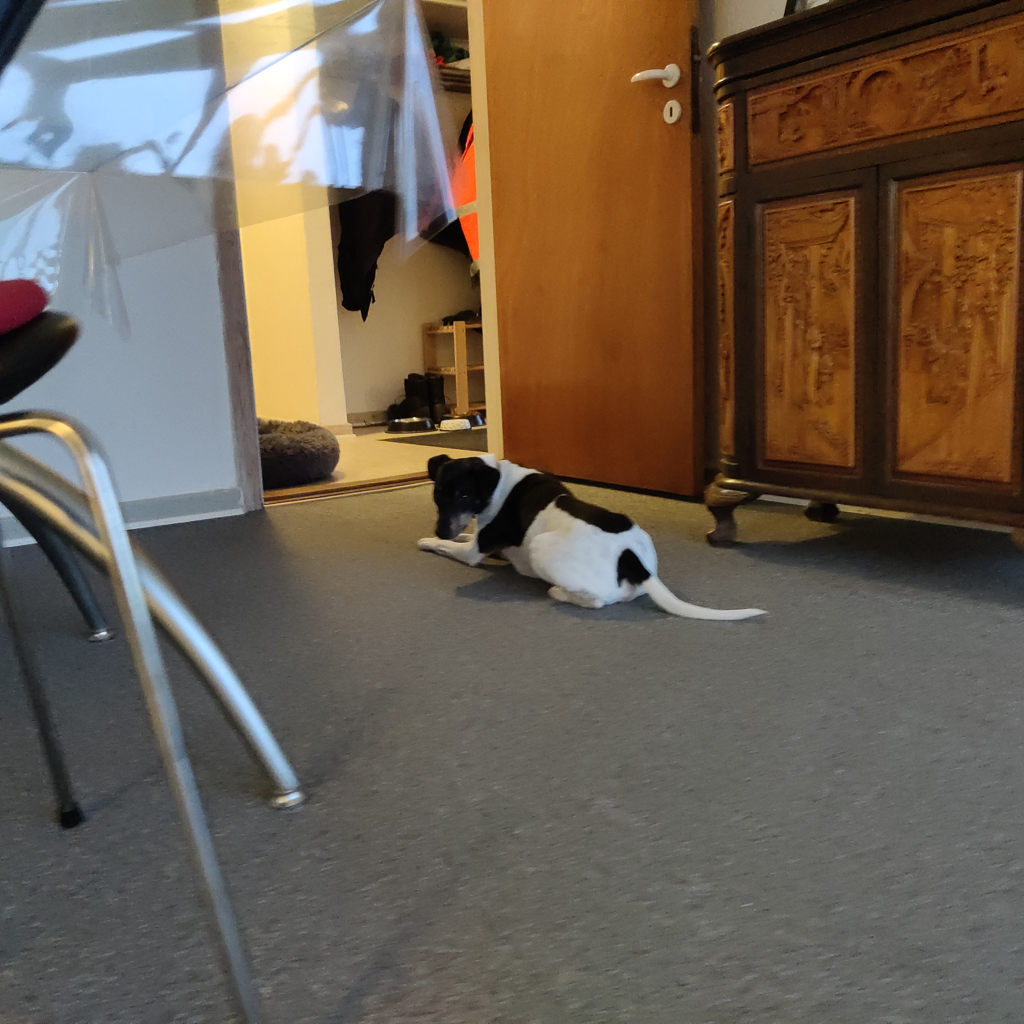Dog: (405, 441, 777, 630)
